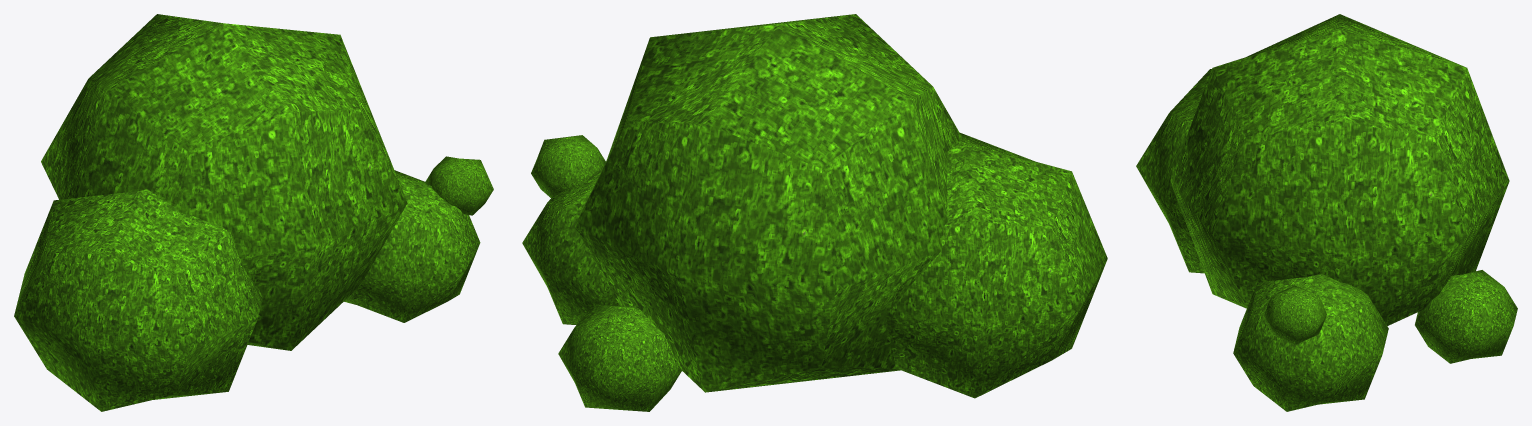
File: grass1.FBX
3 views of the same model, side by side, from view 1: azimuth 30°, elevation 25°; view 2: azimuth 150°, elevation 25°; view 3: azimuth 270°, elevation 25° (orthographic). The views are drawn at different scales.
Parts seen in each view (by area): view 1: Box001; view 2: Box001; view 3: Box001.
Boxes of the visible parts, bbox=[...] form: Box001: bbox=[14, 14, 493, 411]; Box001: bbox=[522, 14, 1107, 411]; Box001: bbox=[1136, 14, 1517, 411].
Bounding box in the file's own units: 33.62 × 21.3 × 24.42.
